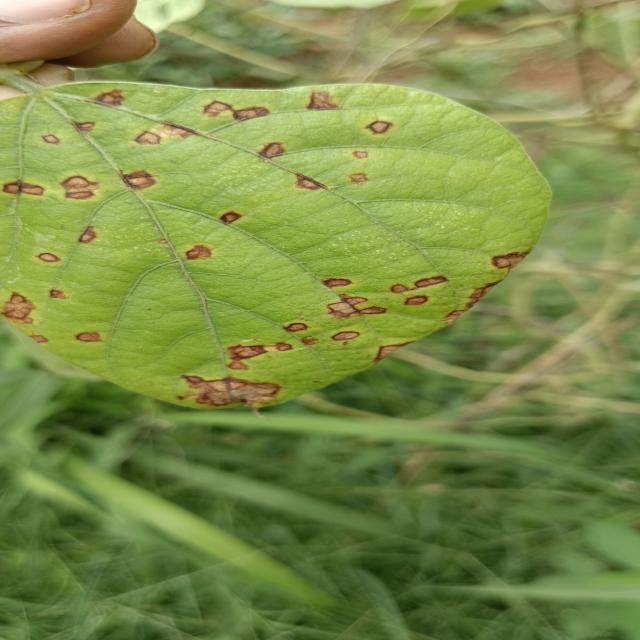Dolicos bean_cercospora leaf spot: (4, 74, 543, 414)
